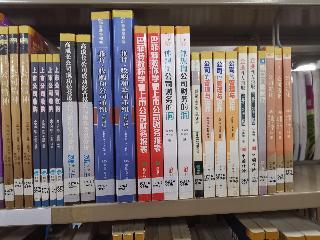book-spine: (111, 9, 137, 205), (91, 12, 116, 205), (74, 34, 96, 205), (159, 26, 180, 200), (174, 26, 194, 200), (60, 34, 80, 205), (132, 26, 151, 202), (146, 26, 164, 201), (8, 24, 25, 209), (0, 25, 14, 209), (19, 25, 33, 209), (200, 51, 216, 199), (189, 52, 205, 199), (212, 53, 228, 199), (225, 51, 241, 197), (280, 47, 294, 192), (29, 54, 42, 208), (44, 54, 57, 207), (52, 54, 65, 207), (246, 46, 259, 195), (37, 54, 49, 207), (265, 45, 277, 195), (239, 46, 249, 196), (274, 47, 284, 193), (258, 51, 268, 195)
